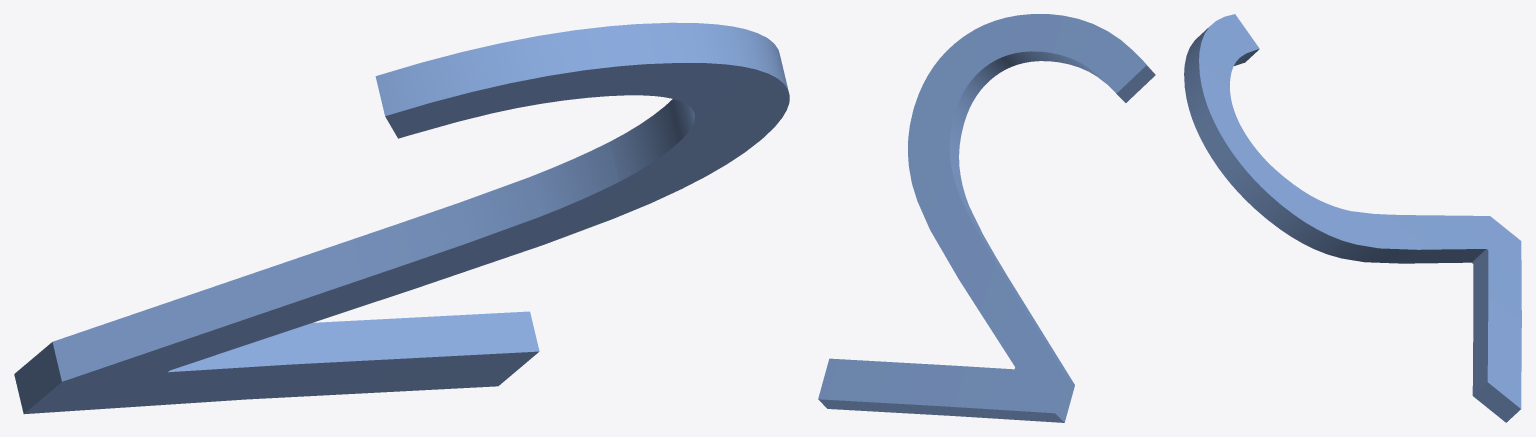
File: New_Number_2.gltf
3 renders of one model, left to right at view 1: azimuth 30°, elevation 25°; view 2: azimuth 150°, elevation 25°; view 3: azimuth 270°, elevation 25°, orthographic. The views are drawn at different scales.
Visible parts, largest first — view 1: Part 245; view 2: Part 245; view 3: Part 245.
Part boxes in pixels (x1,y1,x2,y2): Part 245: (14, 22, 789, 414); Part 245: (818, 14, 1155, 422); Part 245: (1184, 14, 1521, 422).
Size of the model in its own units: 0.00355 by 0.00407 by 0.00382.
